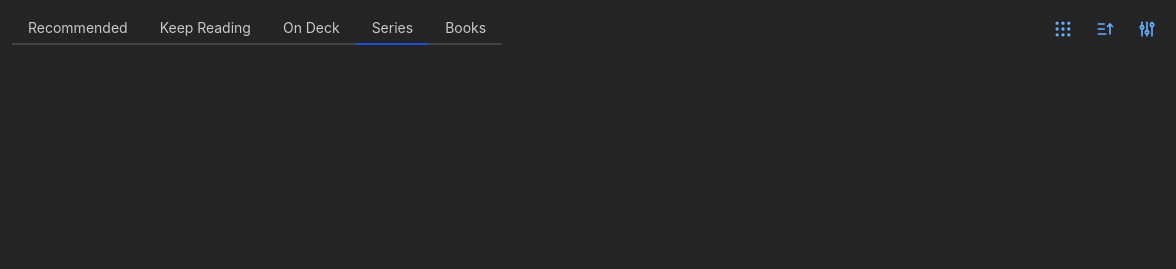
Test: LibraryToolbar › should render all page size options
Note: Click page size button to open menu
What coordinates should you click on to do the following:
click the button named "Page size options"
I would click on:
 (1063, 29)
Its box is [1046,12,1080,46].
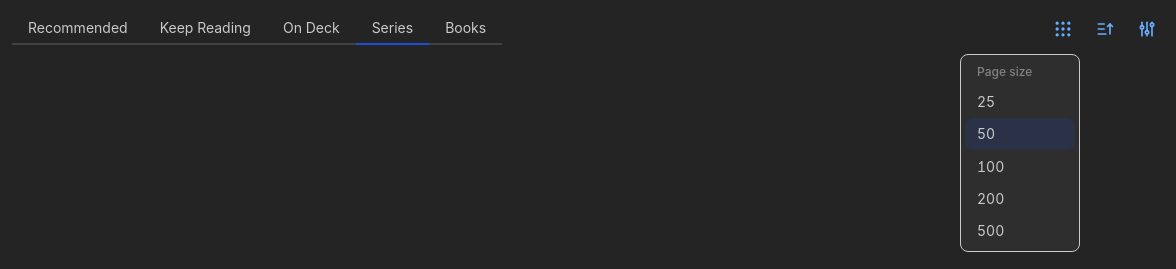
Now the text "25" is shown, box [977,93,995,110]
Now the text "50" is shown, box [977,125,995,142]
Now the text "100" is shown, box [977,158,1004,175]
